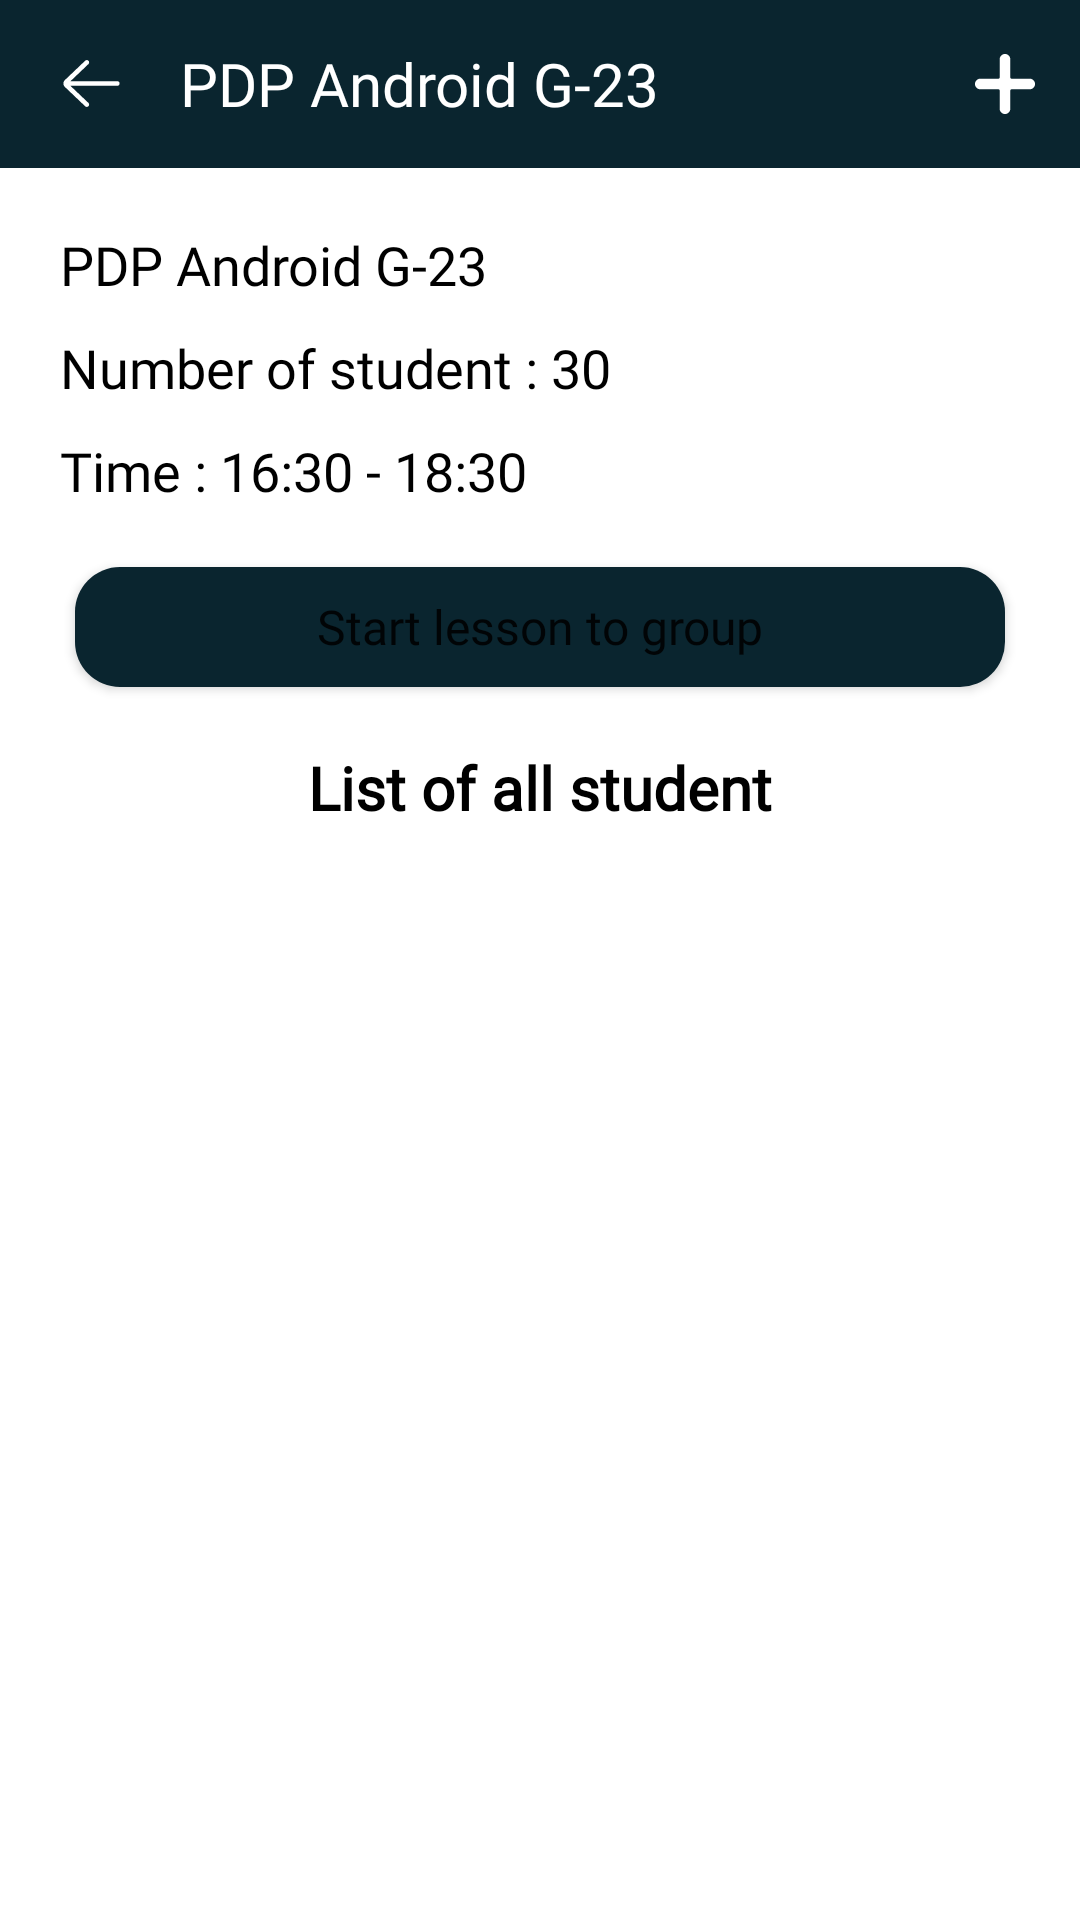

Where icons sit on this 1080 x 1920 app screen, as [left=x1, top=y1, right=x2, bottom=y2]:
add: [left=975, top=54, right=1035, bottom=114]
back: [left=63, top=60, right=120, bottom=107]
